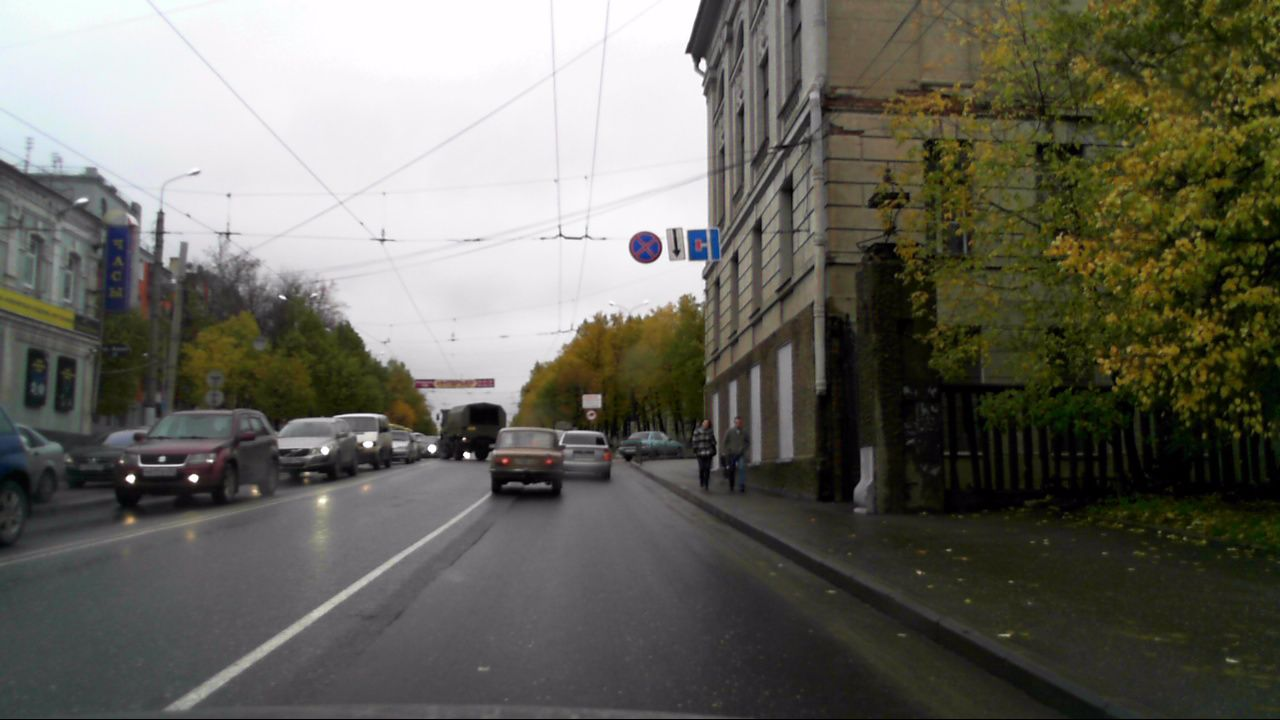No Parking: (629, 231, 662, 263)
